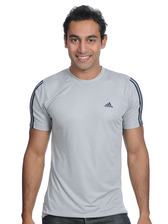clothoes: (27, 62, 146, 217)
